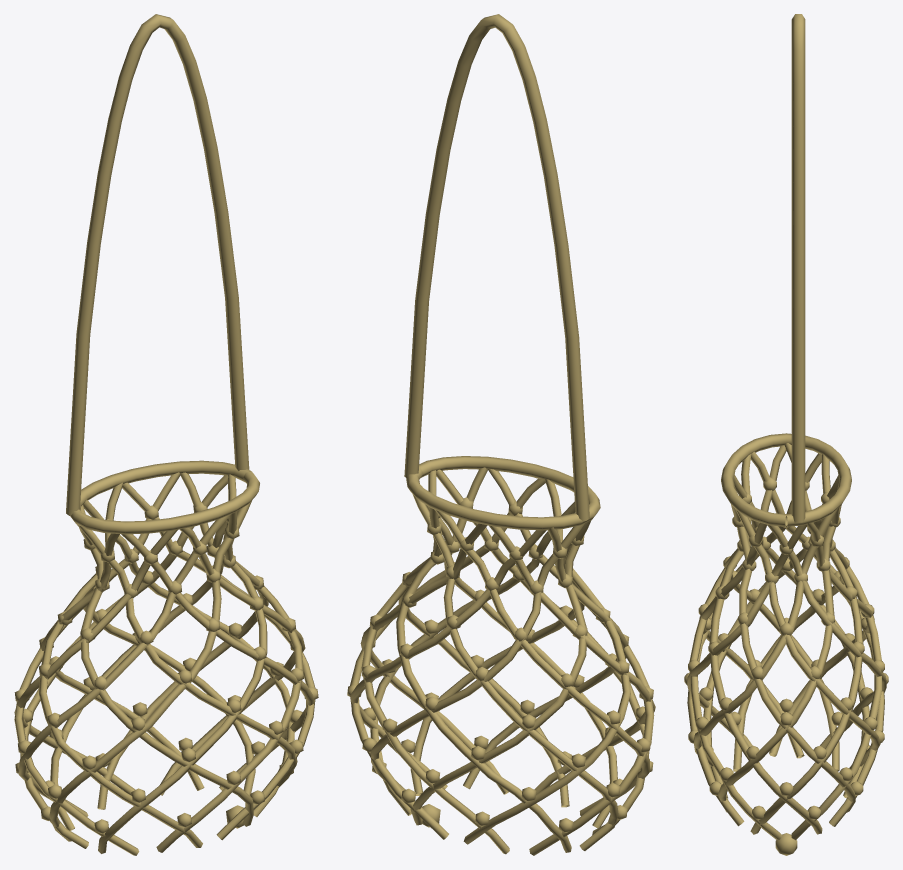
Rendered from sac_filet_porte.glb.
The picture shows the model from 3 angles, left to right: view 1: azimuth 30°, elevation 25°; view 2: azimuth 150°, elevation 25°; view 3: azimuth 270°, elevation 25°; orthographic projection. The views are drawn at different scales.
Parts seen in each view (by area): view 1: Sac_filet_porte; view 2: Sac_filet_porte; view 3: Sac_filet_porte.
Boxes of the visible parts, x1,y1,x2,y2 form: Sac_filet_porte: (14, 14, 318, 855); Sac_filet_porte: (347, 14, 655, 855); Sac_filet_porte: (684, 14, 888, 855).
Size of the model in its own units: 0.2653 by 0.7353 by 0.169.
